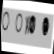correct: (40, 13, 51, 39)
not correct: (23, 12, 39, 38)
